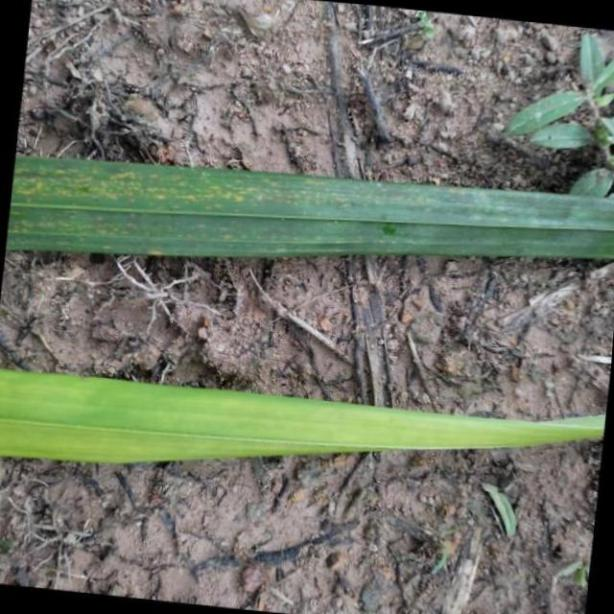nitrogen: (11, 150, 614, 261), (0, 360, 614, 467)
